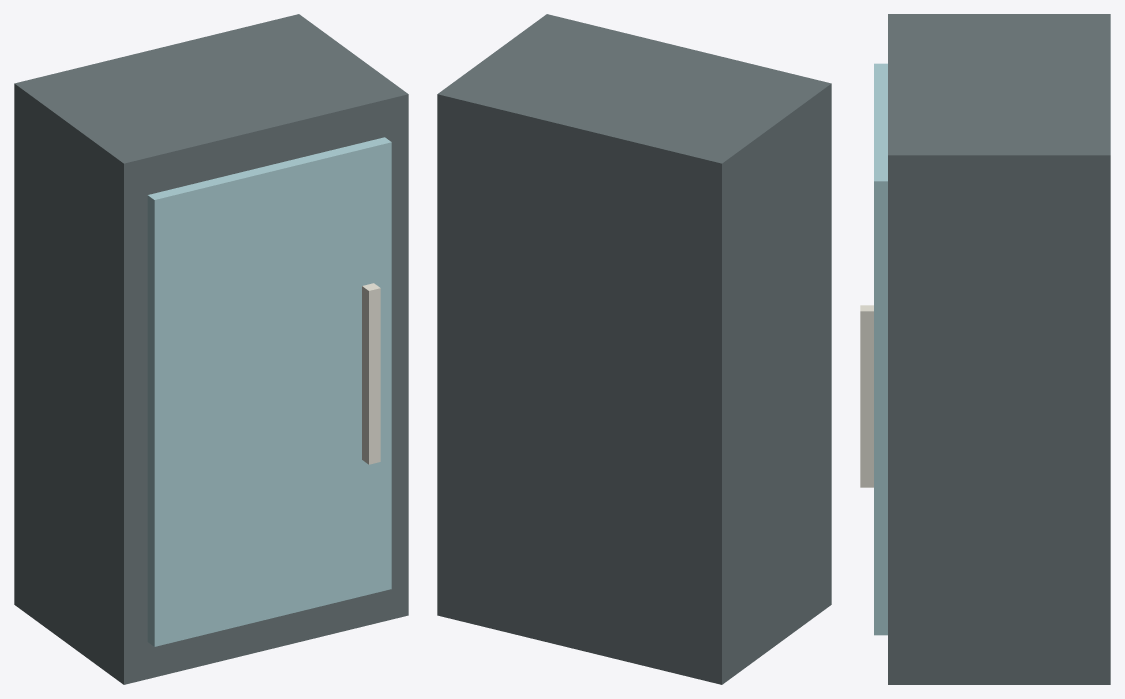
The model's file is supermarket-operations-upright-freezer-2b523e7f__26795.glb.
3 renders of one model, left to right at view 1: azimuth 30°, elevation 25°; view 2: azimuth 150°, elevation 25°; view 3: azimuth 270°, elevation 25°, orthographic.
Parts seen in each view (by area): view 1: upright-freezer; view 2: upright-freezer; view 3: upright-freezer.
Boxes of the visible parts, x1,y1,x2,y2 form: upright-freezer: [14, 14, 408, 684]; upright-freezer: [437, 14, 831, 684]; upright-freezer: [860, 14, 1110, 684].
Bounding box in the file's own units: 1.2 × 2.1 × 0.8999.
